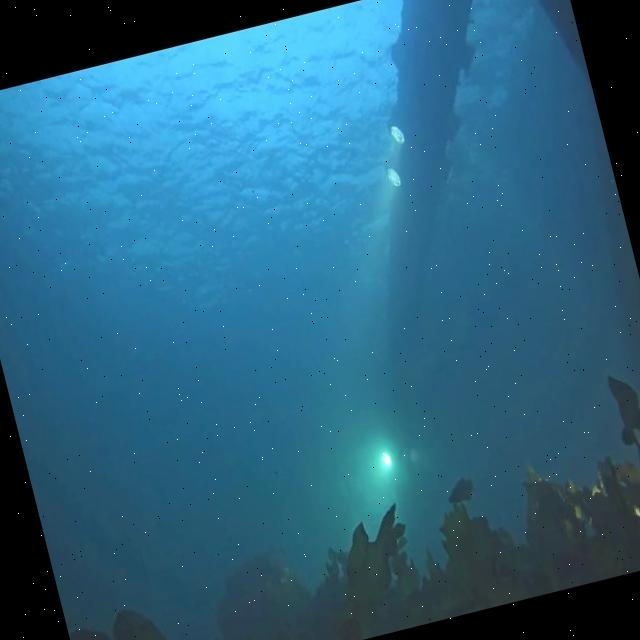fish: (442, 474, 476, 506)
